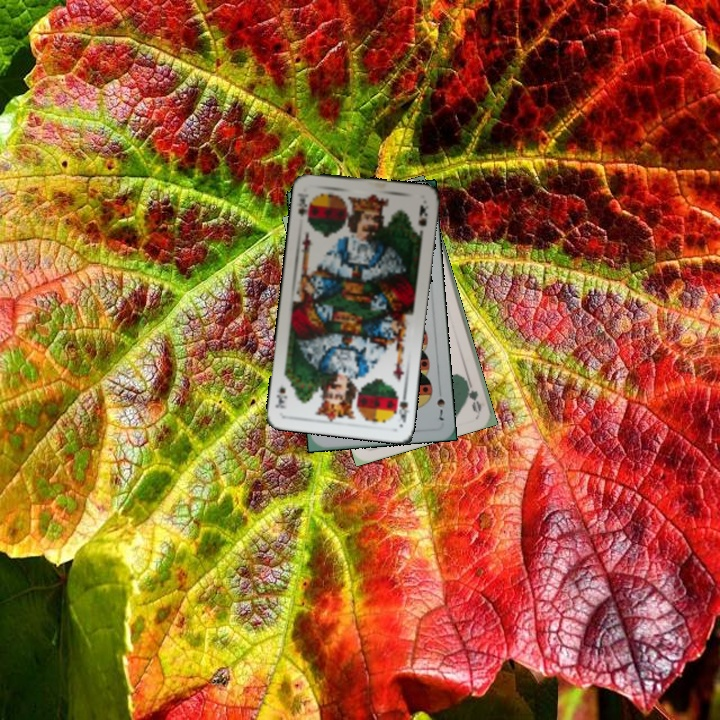GO: (460, 374, 484, 414)
S7: (433, 394, 447, 423)
SK: (391, 387, 411, 425), (294, 193, 314, 227)
